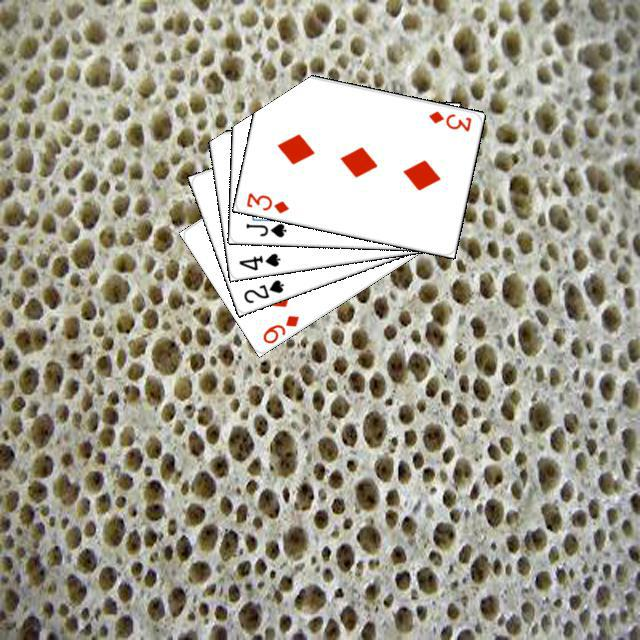2s: (238, 274, 285, 305)
3d: (241, 187, 290, 215), (424, 106, 473, 133)
4s: (234, 248, 282, 272)
9d: (258, 310, 301, 345)
Js: (241, 219, 288, 239)
